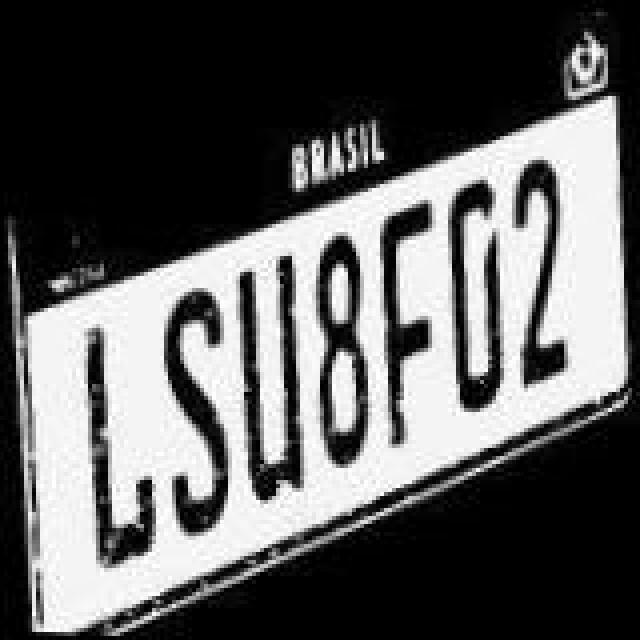2: (498, 158, 578, 386)
8: (310, 228, 378, 460)
D: (438, 168, 510, 412)
F: (370, 192, 438, 452)
L: (74, 316, 166, 568)
S: (152, 286, 232, 538)
U: (226, 208, 314, 508)
